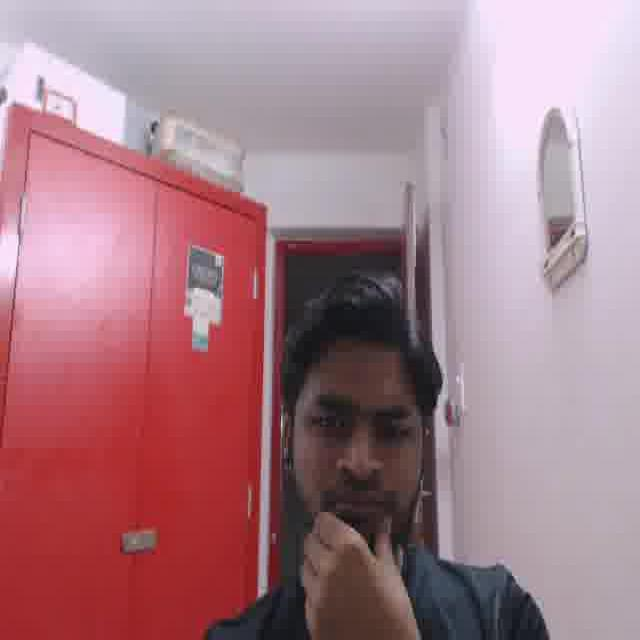Confusion: (296, 348, 422, 557)
